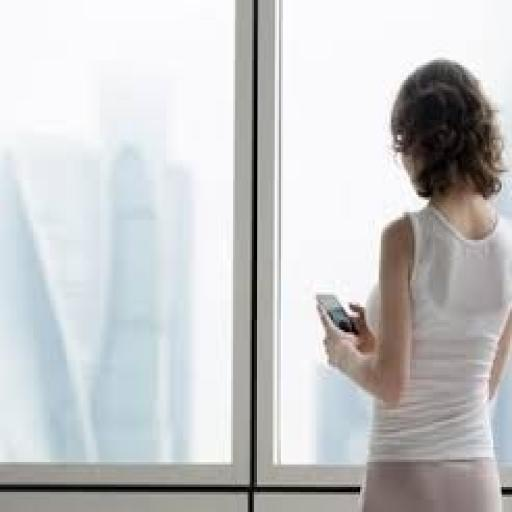texting: (312, 55, 510, 509)
